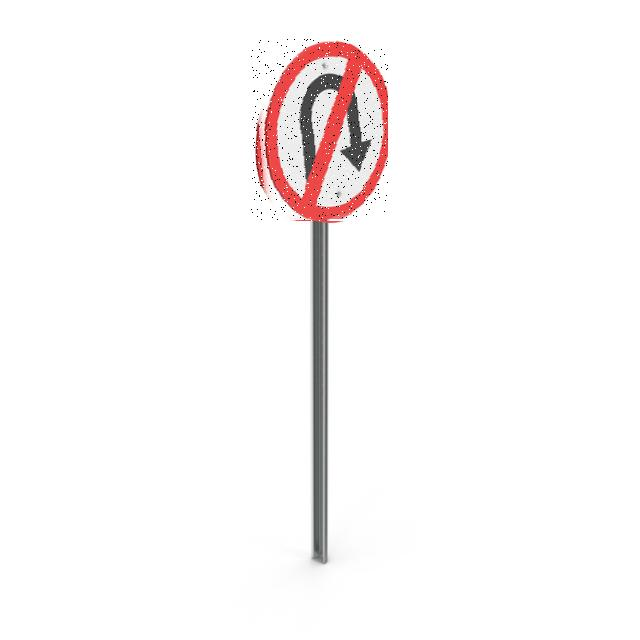no u turn: (251, 39, 388, 221)
